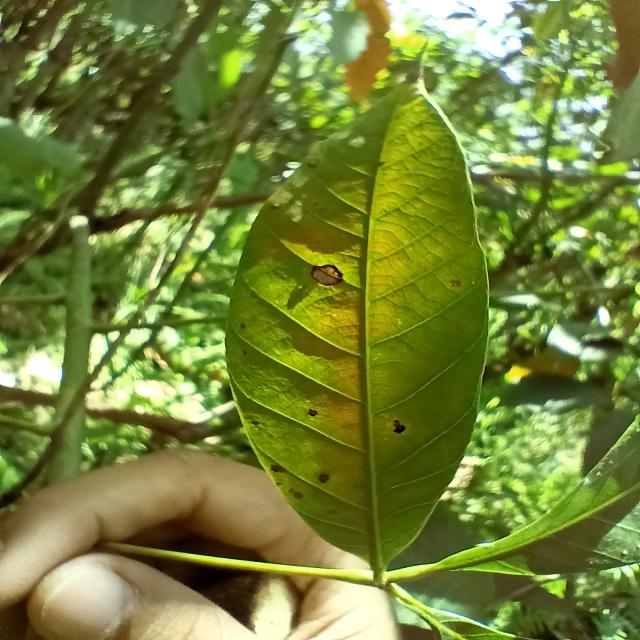Colletotrichum: (310, 263, 343, 286), (393, 425, 407, 434), (270, 464, 282, 473), (319, 474, 329, 483), (308, 408, 318, 416)
